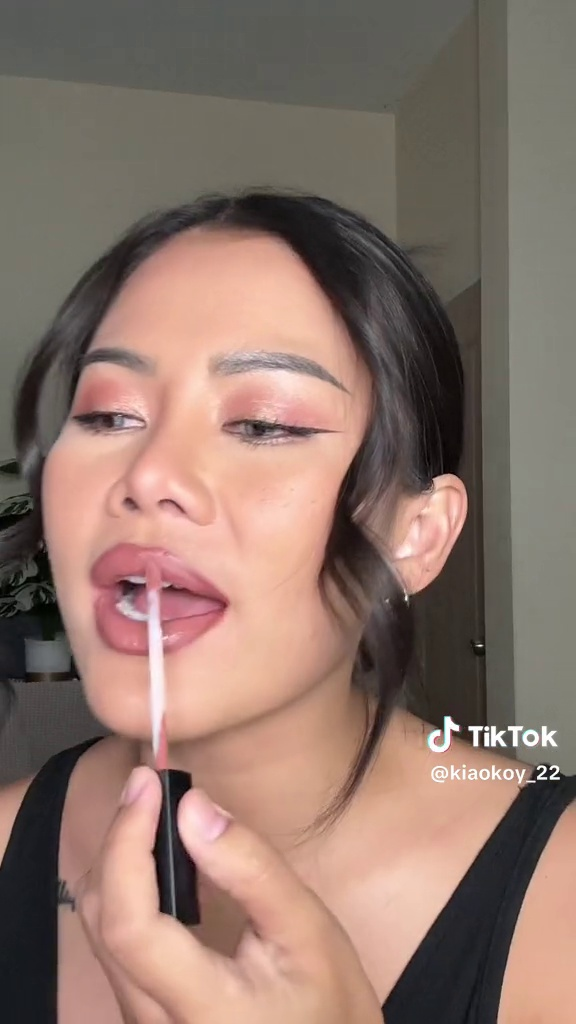train' :'yolo_data/train/images',: (117, 563, 214, 936)
